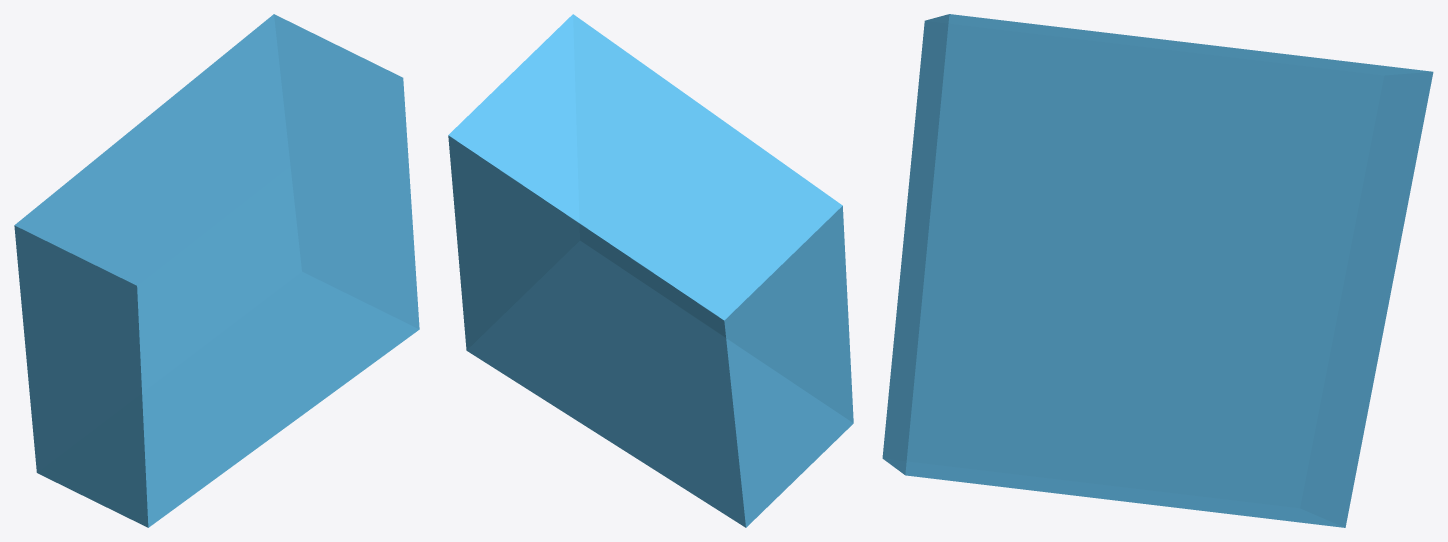
Rendered from Event_421127236_HErechit_31.fbx.
The picture shows the model from 3 angles, left to right: view 1: azimuth 30°, elevation 25°; view 2: azimuth 150°, elevation 25°; view 3: azimuth 270°, elevation 25°; orthographic projection. The views are drawn at different scales.
Visible parts, largest first — view 1: Model; view 2: Model; view 3: Model.
Boxes of the visible parts, x1,y1,x2,y2 form: Model: (14,14,419,527); Model: (448,14,853,527); Model: (882,14,1433,527).
Size of the model in its own units: 0.5889 by 0.8059 by 0.5413.
